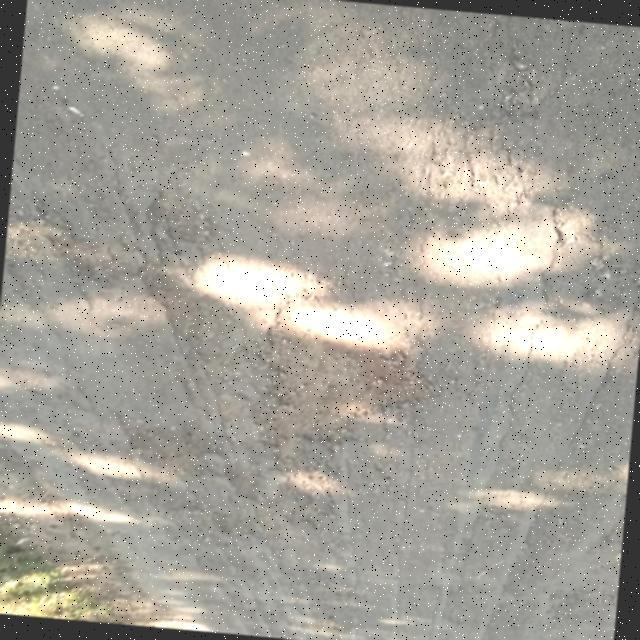Pothole: (114, 194, 445, 552)
